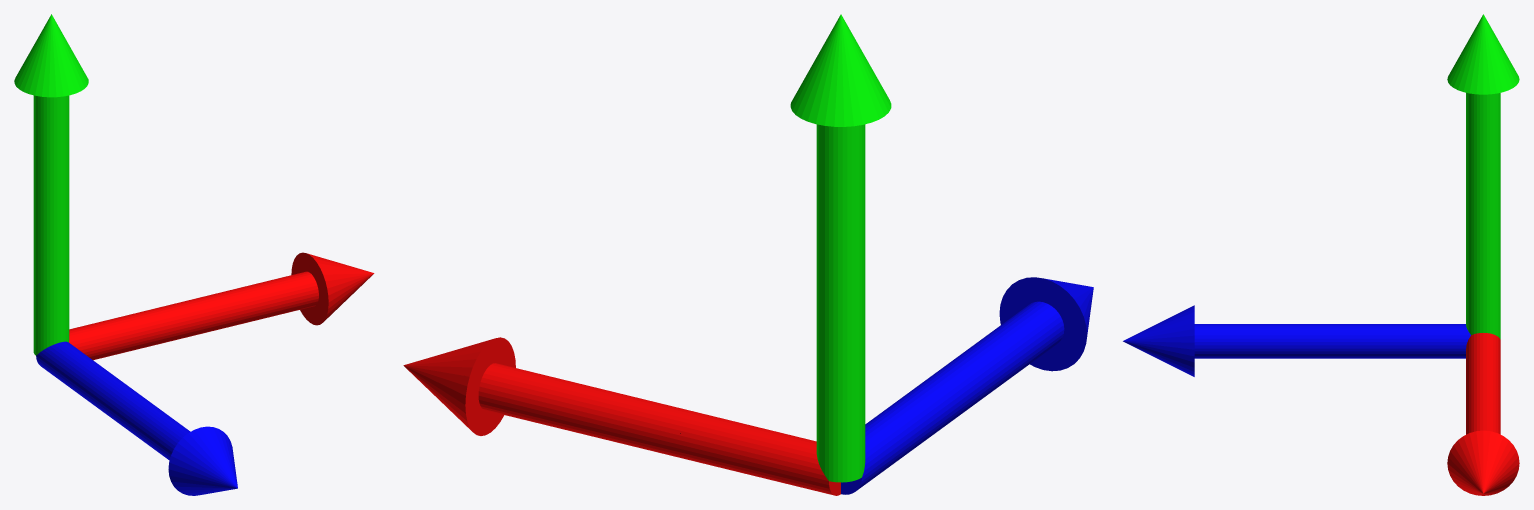
File: Axis.obj
3 renders of one model, left to right at view 1: azimuth 30°, elevation 25°; view 2: azimuth 150°, elevation 25°; view 3: azimuth 270°, elevation 25°, orthographic. The views are drawn at different scales.
Parts seen in each view (by area): view 1: Axis; view 2: Axis; view 3: Axis.
Part boxes in pixels (box(x1,y1,x2,y2)): Axis: box(14, 14, 374, 495); Axis: box(403, 14, 1093, 495); Axis: box(1123, 14, 1519, 495).
Bounding box in the file's own units: 2.2 × 2.2 × 2.2.
